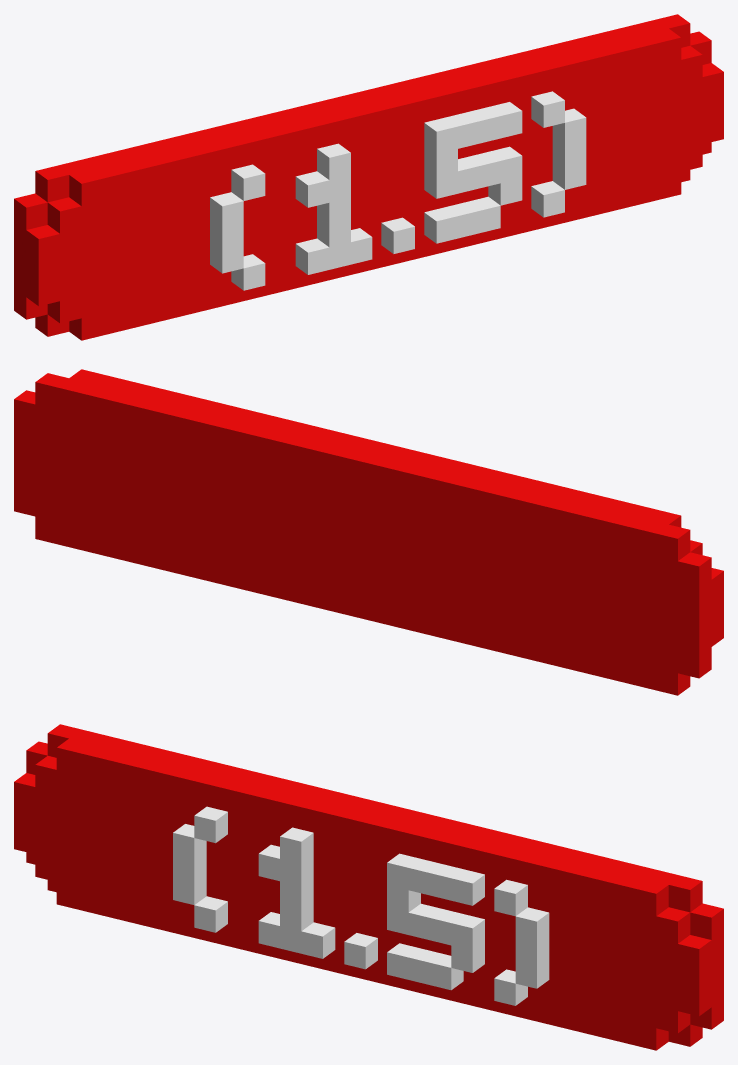
The model's file is lvl1.5.obj.
The picture shows the model from 3 angles, top to bottom: view 1: azimuth 30°, elevation 25°; view 2: azimuth 150°, elevation 25°; view 3: azimuth 330°, elevation 25°; orthographic projection.
Visible parts, largest first — view 1: lvl1.5; view 2: lvl1.5; view 3: lvl1.5.
Part boxes in pixels (x1=…): lvl1.5: x1=14, y1=14, x2=723, y2=340; lvl1.5: x1=14, y1=369, x2=723, y2=695; lvl1.5: x1=14, y1=724, x2=723, y2=1050.
Bounding box in the file's own units: 32 × 7 × 3.
Materials: 1 (1 with a texture image).
